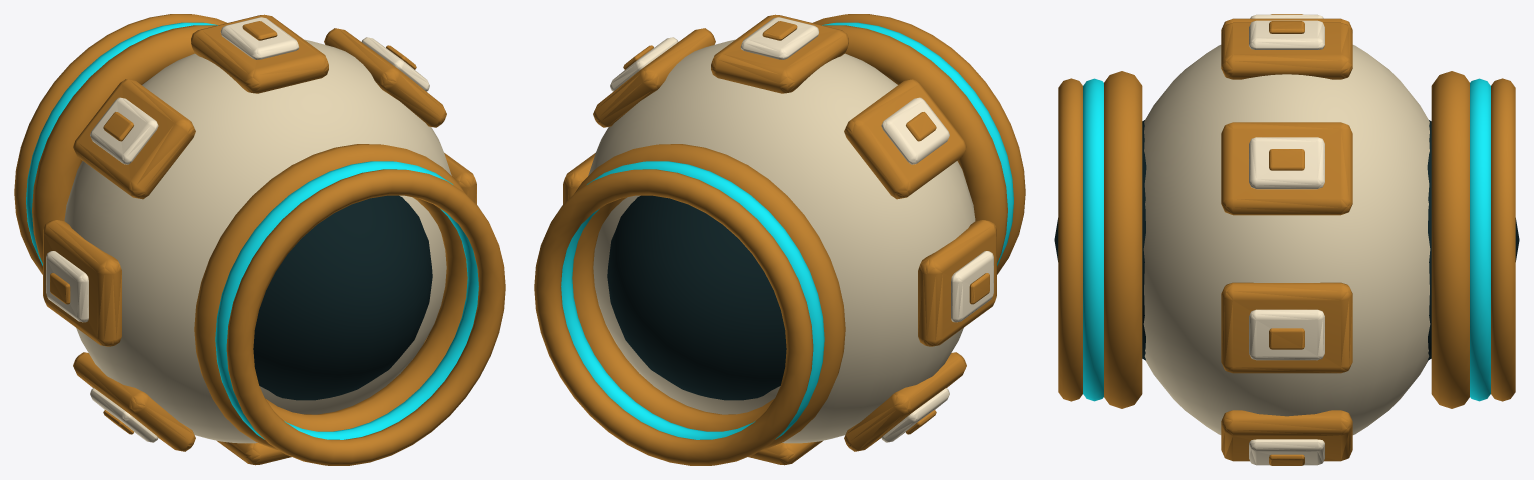
File: FearWormBody.obj
The picture shows the model from 3 angles, left to right: view 1: azimuth 30°, elevation 25°; view 2: azimuth 150°, elevation 25°; view 3: azimuth 270°, elevation 25°; orthographic projection.
Visible parts, largest first — view 1: FearWormBody; view 2: FearWormBody; view 3: FearWormBody.
Part boxes in pixels (x1=…): FearWormBody: x1=14, y1=14, x2=505, y2=465; FearWormBody: x1=534, y1=14, x2=1025, y2=465; FearWormBody: x1=1054, y1=14, x2=1519, y2=465.
Bounding box in the file's own units: 2.25 × 2.25 × 2.2.
1 material, 1 textured.
